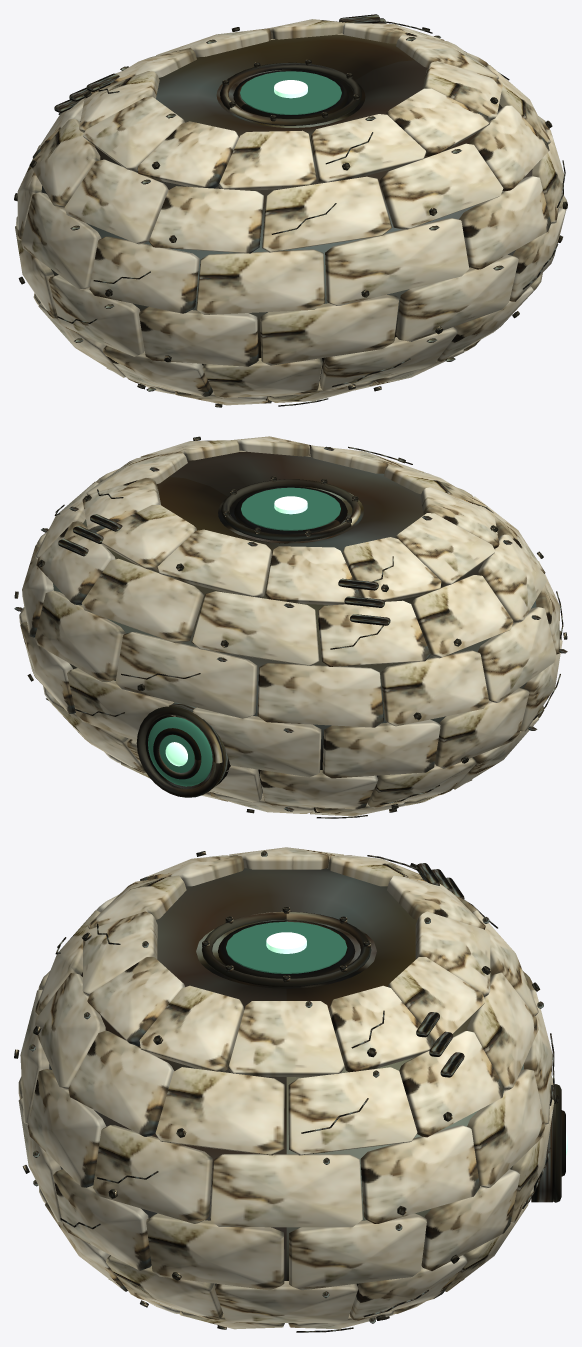
The model's file is body-demolition-astra2-v3.glb.
The picture shows the model from 3 angles, top to bottom: view 1: azimuth 30°, elevation 25°; view 2: azimuth 150°, elevation 25°; view 3: azimuth 270°, elevation 25°; orthographic projection. The views are drawn at different scales.
Visible parts, largest first — view 1: demolition-ceramic, demolition-steel, demolition-metal, demolition-brass, demolition-glass, demolition-light; view 2: demolition-ceramic, demolition-steel, demolition-metal, demolition-brass, demolition-glass, demolition-light; view 3: demolition-ceramic, demolition-steel, demolition-metal, demolition-brass, demolition-glass, demolition-light.
Boxes of the visible parts, left/top/right/bottom form: demolition-ceramic: left=15, top=19, right=566, bottom=405; demolition-steel: left=41, top=34, right=532, bottom=380; demolition-metal: left=54, top=14, right=565, bottom=406; demolition-brass: left=14, top=27, right=567, bottom=407; demolition-glass: left=240, top=71, right=341, bottom=114; demolition-light: left=274, top=80, right=307, bottom=98; demolition-ceramic: left=19, top=436, right=562, bottom=816; demolition-steel: left=53, top=451, right=536, bottom=792; demolition-metal: left=14, top=446, right=567, bottom=818; demolition-brass: left=14, top=436, right=567, bottom=813; demolition-glass: left=148, top=487, right=340, bottom=786; demolition-light: left=165, top=496, right=307, bottom=766; demolition-ceramic: left=18, top=847, right=554, bottom=1329; demolition-steel: left=49, top=868, right=523, bottom=1286; demolition-metal: left=29, top=850, right=565, bottom=1332; demolition-brass: left=14, top=851, right=561, bottom=1329; demolition-glass: left=226, top=921, right=347, bottom=973; demolition-light: left=266, top=932, right=567, bottom=1154.
Bounding box in the file's own units: 1.56 × 0.8673 × 1.29.
Materials: 6 (4 with a texture image).
